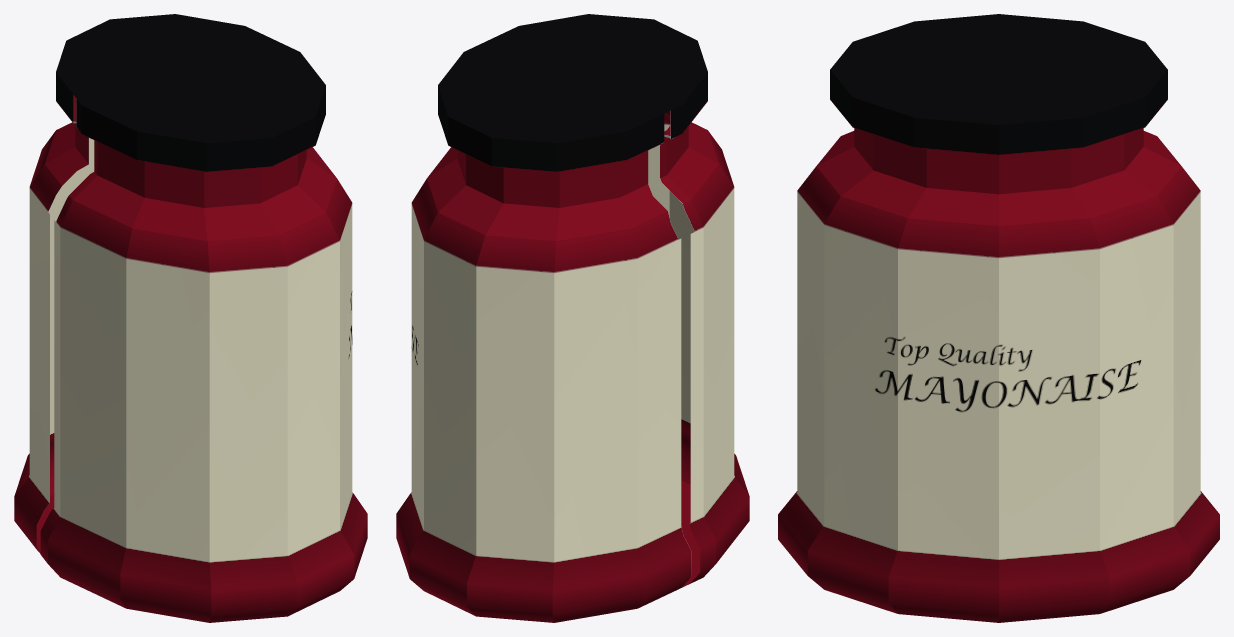
File: Mayo.fbx
The picture shows the model from 3 angles, left to right: view 1: azimuth 30°, elevation 25°; view 2: azimuth 150°, elevation 25°; view 3: azimuth 270°, elevation 25°; orthographic projection. The views are drawn at different scales.
Visible parts, largest first — view 1: pCylinder1; view 2: pCylinder1; view 3: pCylinder1.
Part boxes in pixels (x1=…): pCylinder1: x1=14, y1=14, x2=367, y2=622; pCylinder1: x1=396, y1=14, x2=749, y2=622; pCylinder1: x1=778, y1=14, x2=1219, y2=622.
Size of the model in its own units: 1.71 by 2.66 by 2.19.
